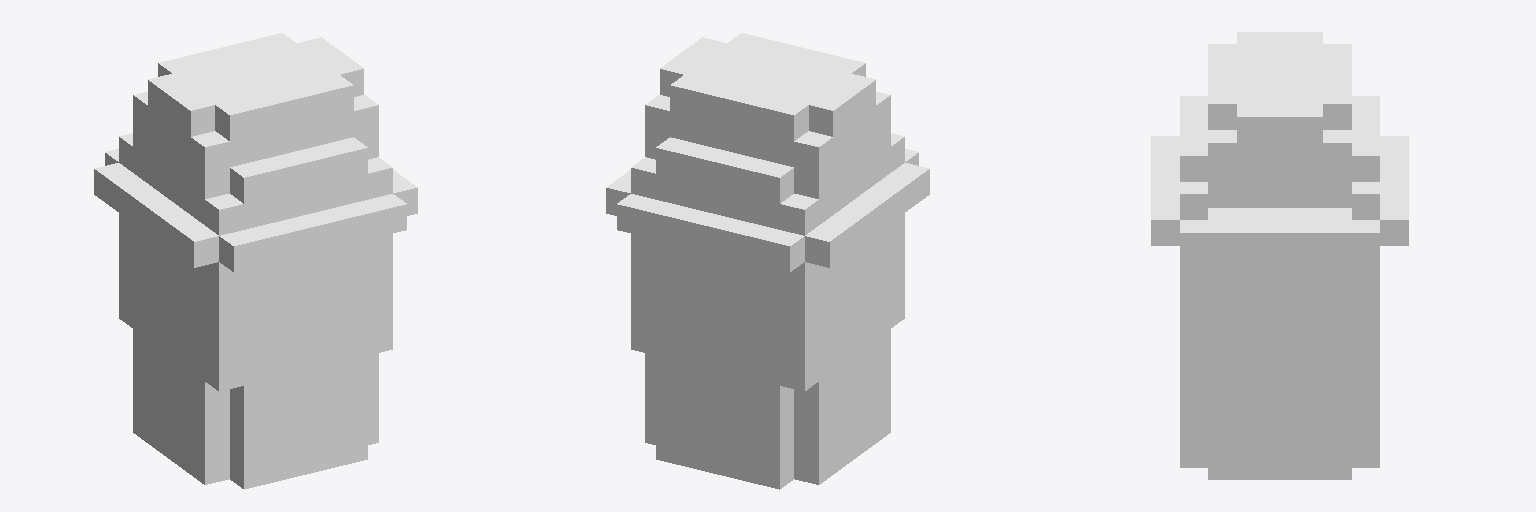
The model's file is Office_Misc_Set-53.obj.
3 renders of one model, left to right at view 1: azimuth 30°, elevation 25°; view 2: azimuth 150°, elevation 25°; view 3: azimuth 270°, elevation 25°, orthographic.
Parts seen in each view (by area): view 1: object 1; view 2: object 1; view 3: object 1.
Part boxes in pixels (x1,y1,x2,y2): object 1: (94,33,417,489); object 1: (606,33,929,489); object 1: (1151,32,1408,479).
Bounding box in the file's own units: 0.9 × 1.4 × 0.9.